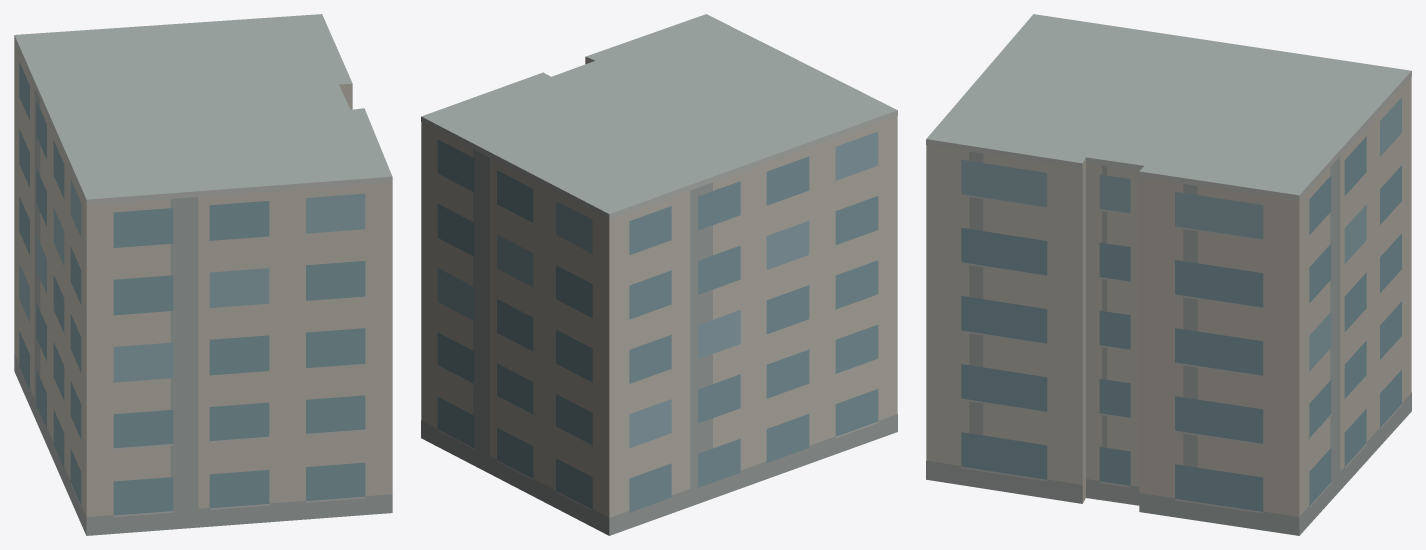
Rendered from survey-upis-32889264.glb.
3 views of the same model, side by side, from view 1: azimuth 30°, elevation 25°; view 2: azimuth 150°, elevation 25°; view 3: azimuth 270°, elevation 25° (orthographic). The views are drawn at different scales.
Visible parts, largest first — view 1: survey-upis-32889264.tmp; view 2: survey-upis-32889264.tmp; view 3: survey-upis-32889264.tmp.
Boxes of the visible parts, x1,y1,x2,y2 form: survey-upis-32889264.tmp: (14,14,392,535); survey-upis-32889264.tmp: (421,14,897,535); survey-upis-32889264.tmp: (926,14,1411,535).
Size of the model in its own units: 16.34 by 14.3 by 18.49.
